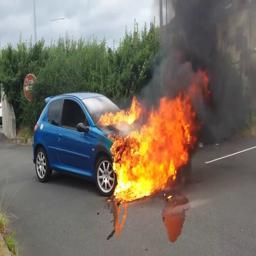fire: (99, 69, 209, 201)
